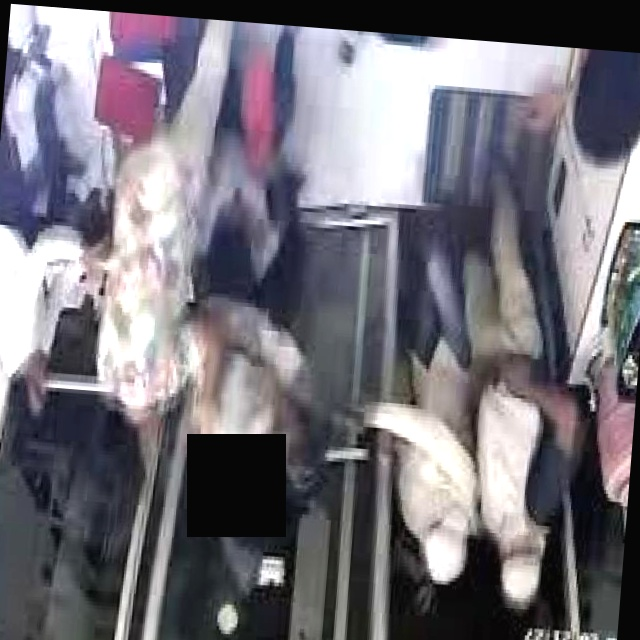gun: (474, 347, 518, 397), (322, 401, 371, 438)
